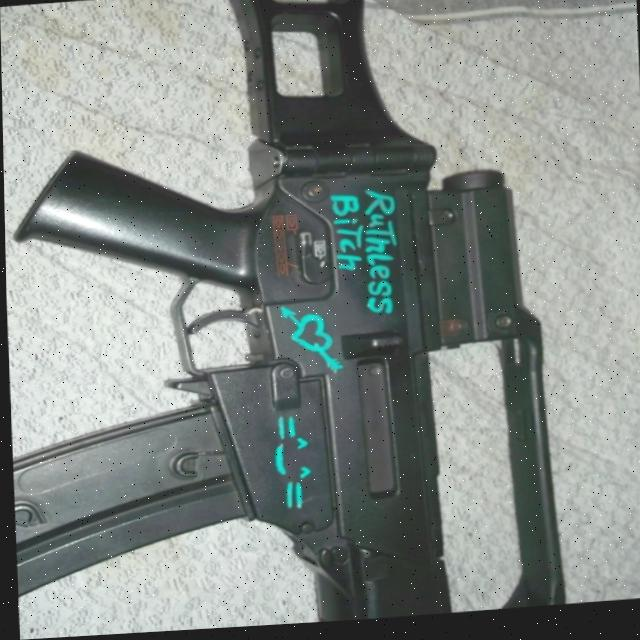firearm: (0, 0, 566, 640)
